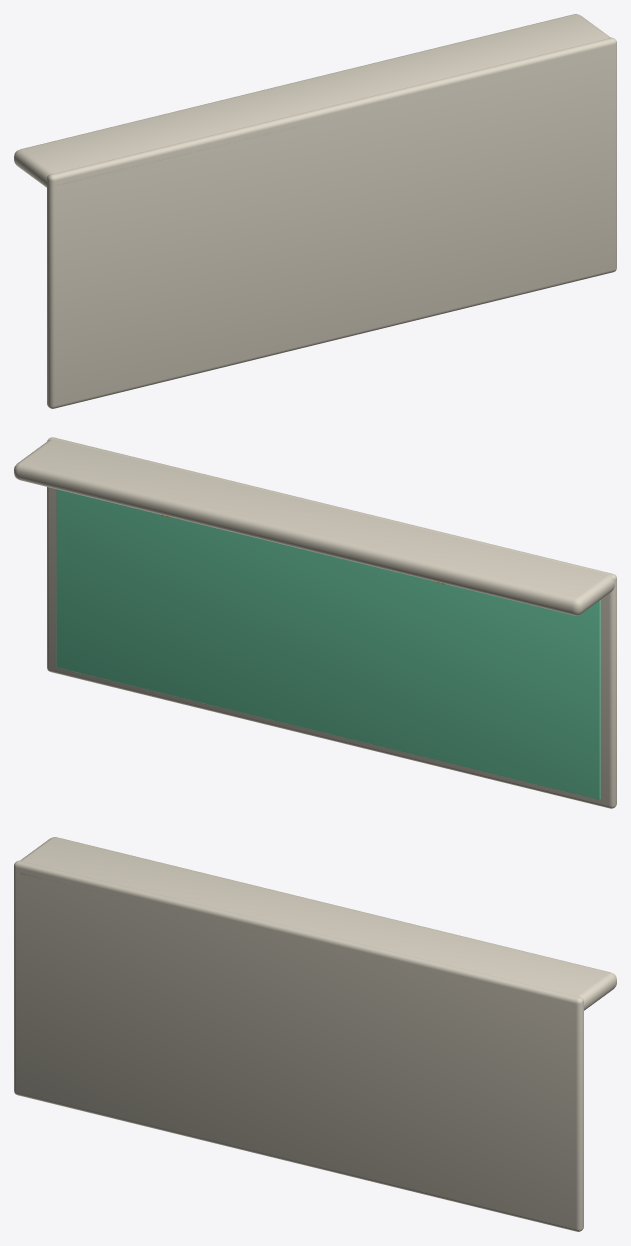
The model's file is CareStationTray_Premium.fbx.
3 views of the same model, one above another, from view 1: azimuth 30°, elevation 25°; view 2: azimuth 150°, elevation 25°; view 3: azimuth 330°, elevation 25° (orthographic).
Parts seen in each view (by area): view 1: CareStationTray; view 2: CareStationTray; view 3: CareStationTray.
Part boxes in pixels (x1,y1,x2,y2): CareStationTray: [14, 14, 616, 408]; CareStationTray: [14, 437, 616, 808]; CareStationTray: [14, 837, 616, 1231].
Bounding box in the file's own units: 1.4 × 0.55 × 0.17.
